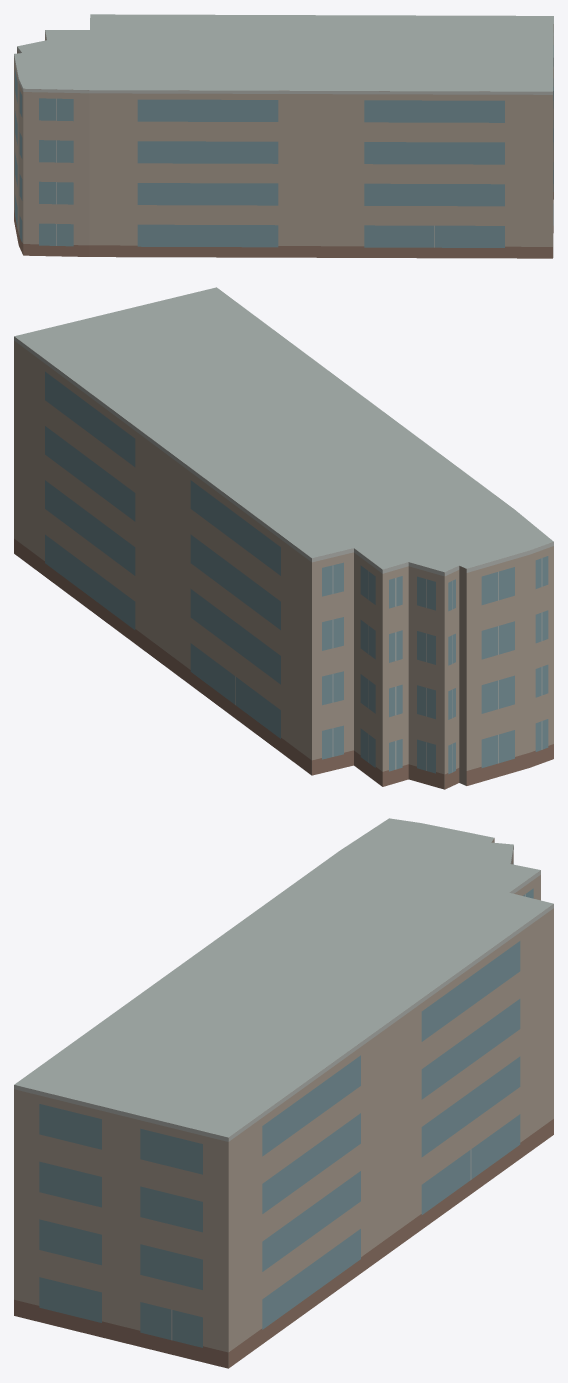
The model's file is survey-upis-32666267.glb.
The picture shows the model from 3 angles, top to bottom: view 1: azimuth 30°, elevation 25°; view 2: azimuth 150°, elevation 25°; view 3: azimuth 270°, elevation 25°; orthographic projection. The views are drawn at different scales.
Parts seen in each view (by area): view 1: survey-upis-32666267.tmp; view 2: survey-upis-32666267.tmp; view 3: survey-upis-32666267.tmp.
Boxes of the visible parts, x1=… form: survey-upis-32666267.tmp: x1=14, y1=14, x2=553, y2=258; survey-upis-32666267.tmp: x1=14, y1=287, x2=553, y2=789; survey-upis-32666267.tmp: x1=14, y1=818, x2=553, y2=1368.
Bounding box in the file's own units: 37.65 × 12.7 × 26.9.
